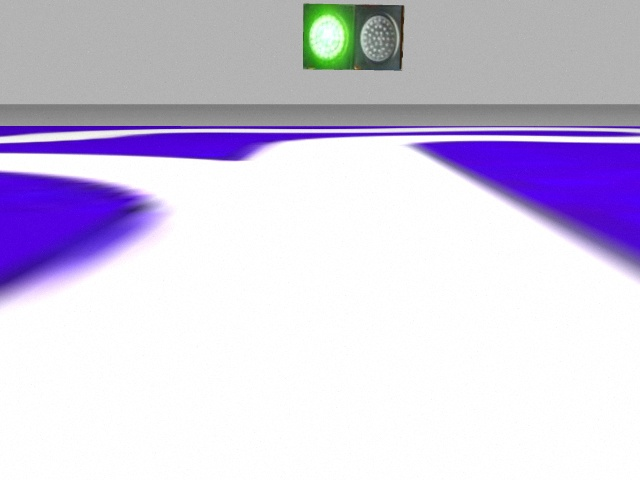green: (302, 3, 355, 70)
